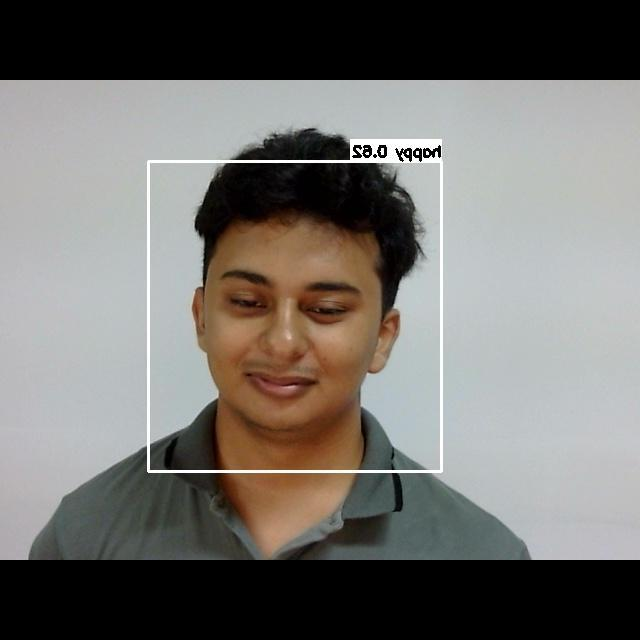Happy: (203, 253, 379, 424)
